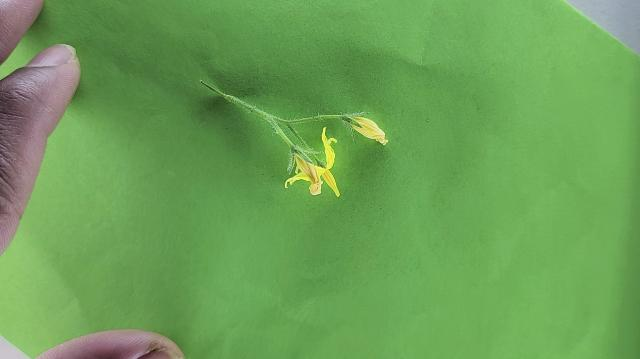Anthesis: (285, 127, 341, 198), (344, 114, 389, 146)
